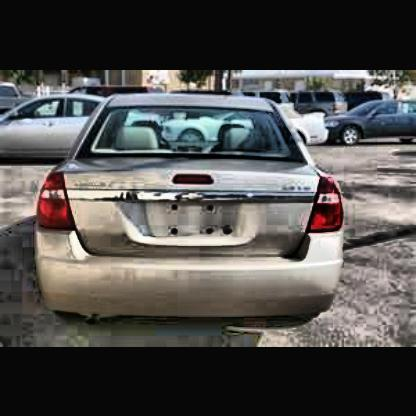Chevrolet Malibu Sedan 2007: (39, 93, 346, 331)
